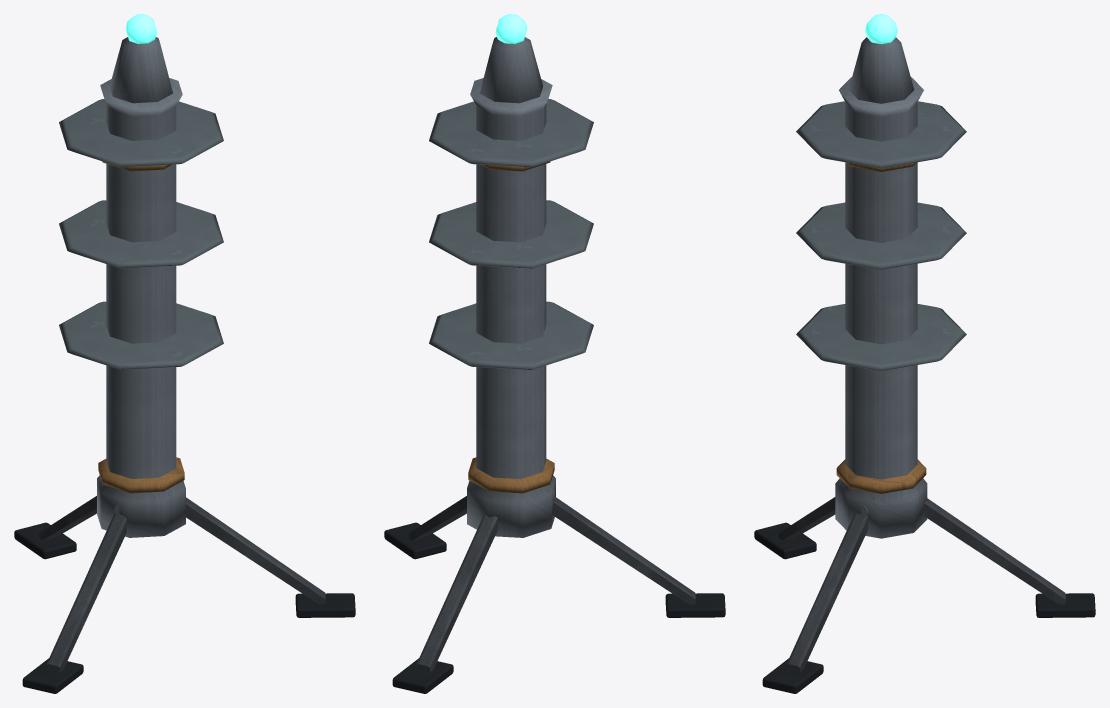
Rendered from pulse-pylon.lod2.glb.
3 views of the same model, side by side, from view 1: azimuth 30°, elevation 25°; view 2: azimuth 150°, elevation 25°; view 3: azimuth 270°, elevation 25° (orthographic).
Visible parts, largest first — view 1: alloy / machined anodized alloy, ceramic / ceramic composite panel, darksteel / oil-blackened fittings, polymer / stippled polymer, bronze / cast bronze with patina, energy / emissive field channel; view 2: alloy / machined anodized alloy, ceramic / ceramic composite panel, darksteel / oil-blackened fittings, polymer / stippled polymer, bronze / cast bronze with patina, energy / emissive field channel; view 3: alloy / machined anodized alloy, ceramic / ceramic composite panel, darksteel / oil-blackened fittings, polymer / stippled polymer, bronze / cast bronze with patina, energy / emissive field channel.
Boxes of the visible parts, left/top/right/bottom form: alloy / machined anodized alloy: left=97, top=37, right=185, bottom=537; ceramic / ceramic composite panel: left=59, top=99, right=223, bottom=369; darksteel / oil-blackened fittings: left=39, top=496, right=325, bottom=672; polymer / stippled polymer: left=14, top=522, right=355, bottom=693; bronze / cast bronze with patina: left=98, top=161, right=184, bottom=493; energy / emissive field channel: left=125, top=14, right=157, bottom=43; alloy / machined anodized alloy: left=467, top=37, right=555, bottom=537; ceramic / ceramic composite panel: left=429, top=99, right=593, bottom=369; darksteel / oil-blackened fittings: left=409, top=496, right=695, bottom=672; polymer / stippled polymer: left=384, top=522, right=725, bottom=693; bronze / cast bronze with patina: left=468, top=161, right=554, bottom=493; energy / emissive field channel: left=495, top=14, right=527, bottom=43; alloy / machined anodized alloy: left=835, top=37, right=927, bottom=538; ceramic / ceramic composite panel: left=796, top=101, right=966, bottom=371; darksteel / oil-blackened fittings: left=779, top=497, right=1065, bottom=672; polymer / stippled polymer: left=754, top=522, right=1095, bottom=693; bronze / cast bronze with patina: left=836, top=162, right=926, bottom=493; energy / emissive field channel: left=865, top=14, right=897, bottom=44.
Size of the model in its own units: 0.5896 by 1 by 0.5186.
Materials: 6 (5 with a texture image).
